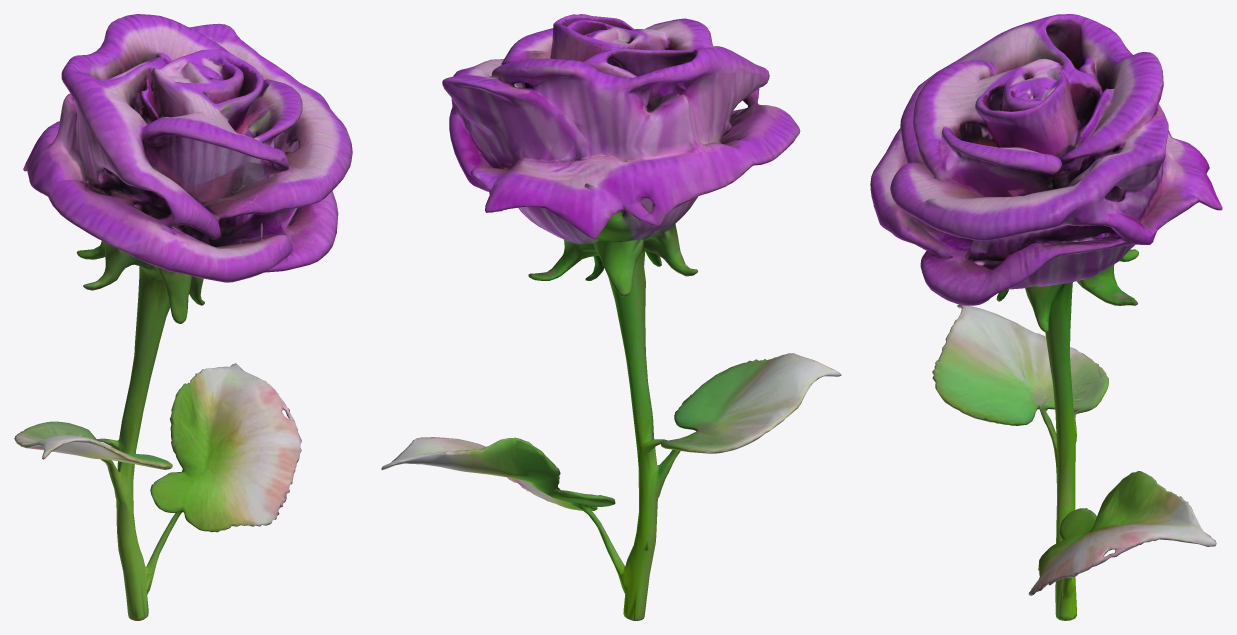
The model's file is apex-flora-flor.glb.
3 views of the same model, side by side, from view 1: azimuth 30°, elevation 25°; view 2: azimuth 150°, elevation 25°; view 3: azimuth 270°, elevation 25° (orthographic). The views are drawn at different scales.
Size of the model in its own units: 1.23 by 2 by 1.11.
1 material, 1 textured.
